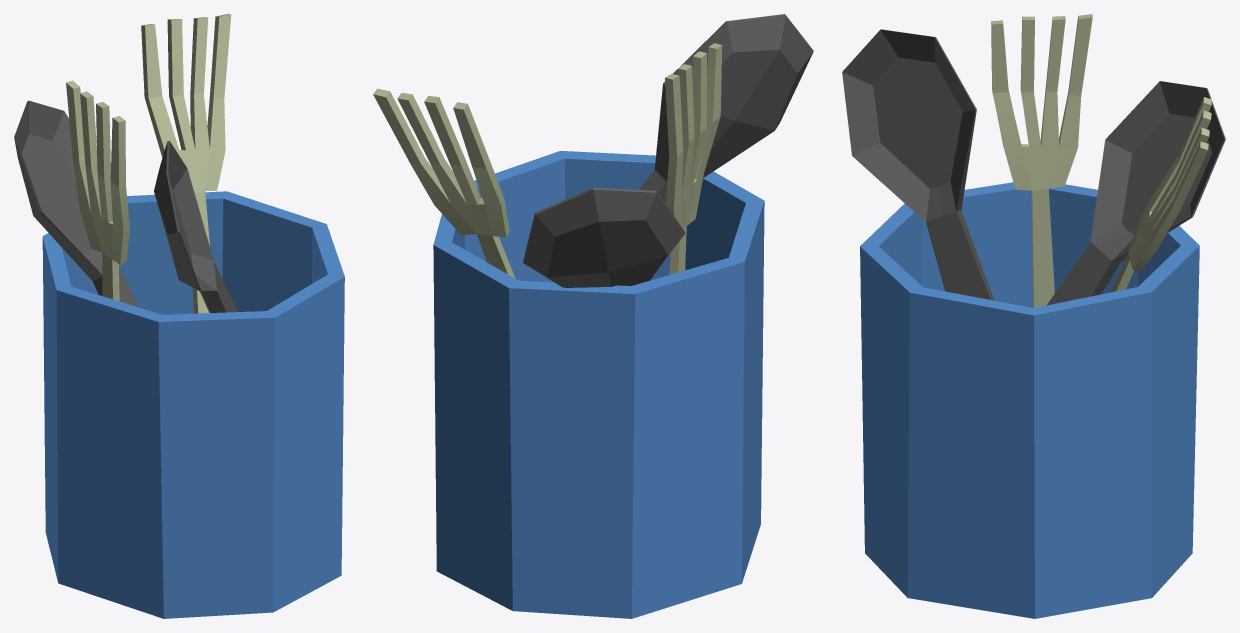
File: Kitchen_2_Cutlery.fbx
3 views of the same model, side by side, from view 1: azimuth 30°, elevation 25°; view 2: azimuth 150°, elevation 25°; view 3: azimuth 270°, elevation 25° (orthographic). The views are drawn at different scales.
Parts seen in each view (by area): view 1: Kitchen_2_Cutlery; view 2: Kitchen_2_Cutlery; view 3: Kitchen_2_Cutlery.
Part boxes in pixels (x1,y1,x2,y2): Kitchen_2_Cutlery: (14,14,344,618); Kitchen_2_Cutlery: (373,14,813,618); Kitchen_2_Cutlery: (842,14,1225,618).
Bounding box in the file's own units: 18.37 × 31.09 × 21.82.
